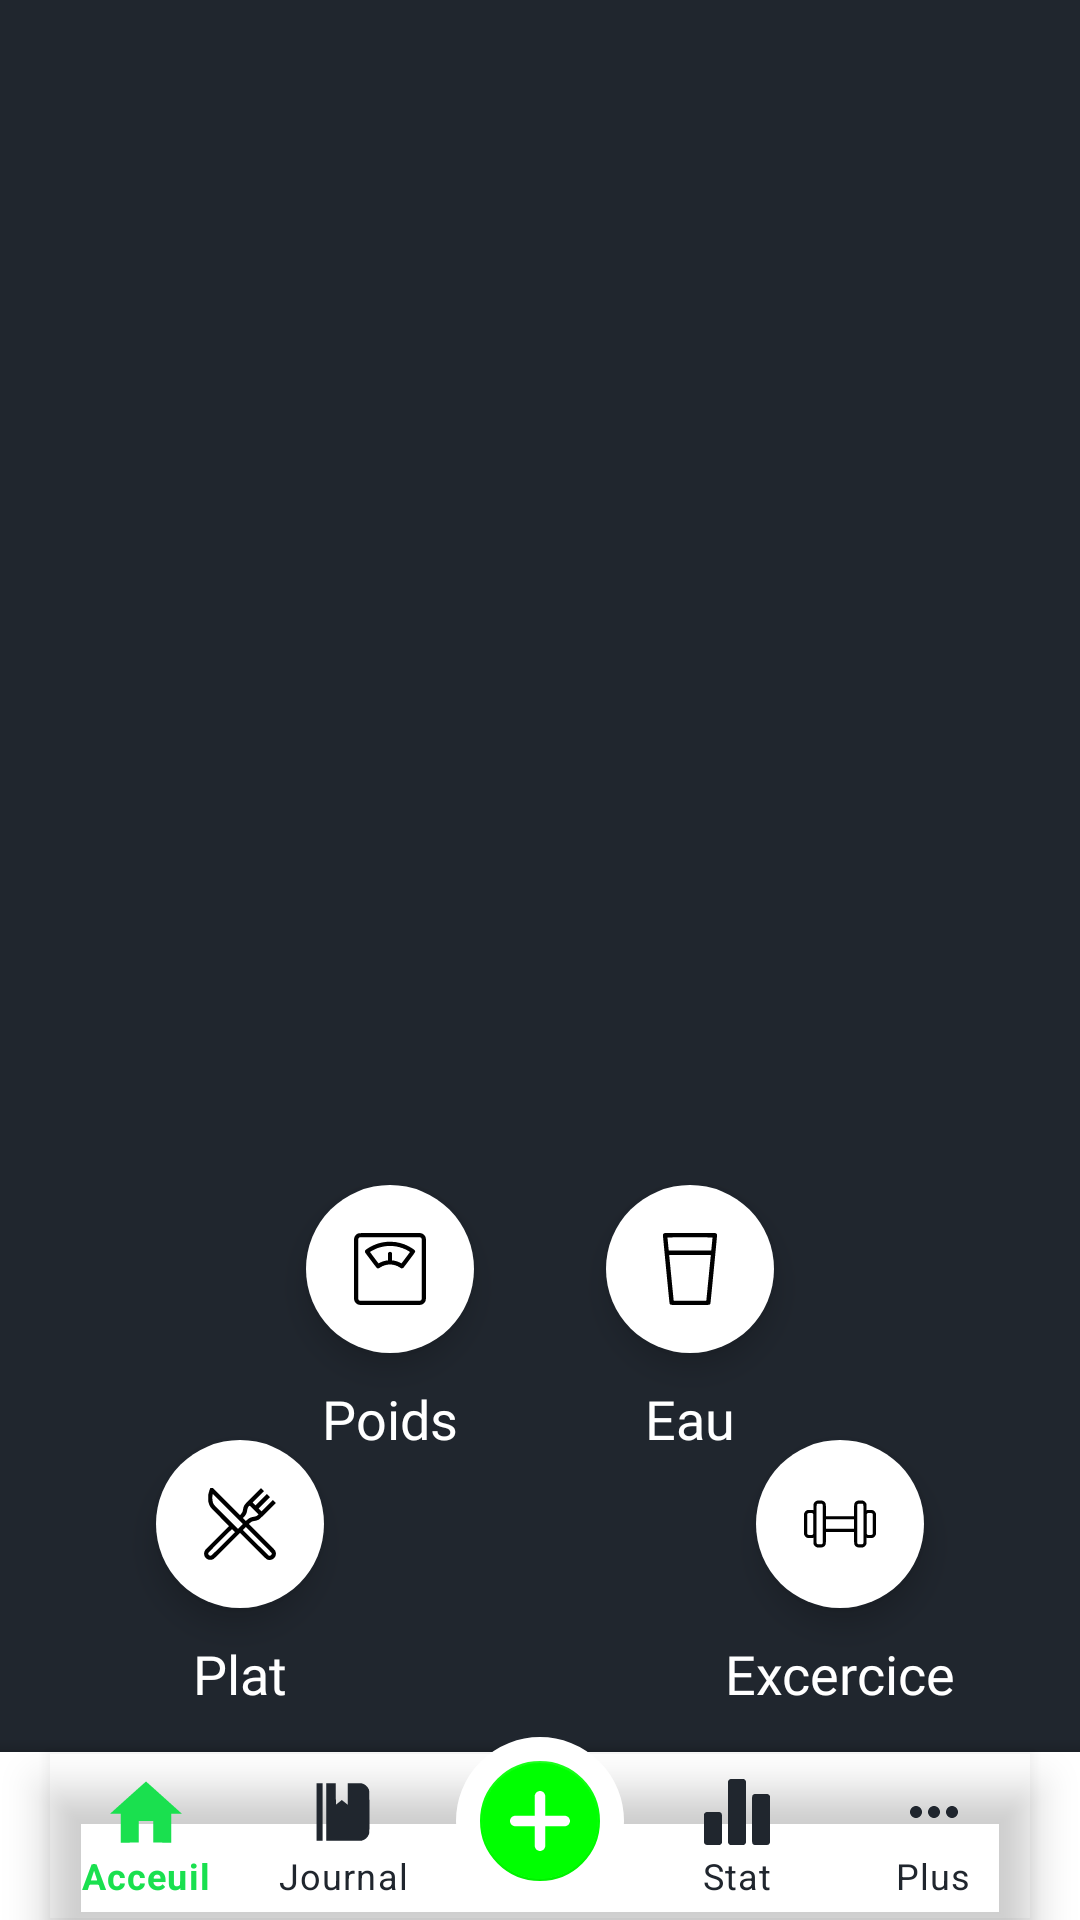

Icons on this 1080×1920 Android screen, each with the point to tap as (x=x, y=y):
dumbell: (x=840, y=1524)
restaurant: (x=240, y=1524)
